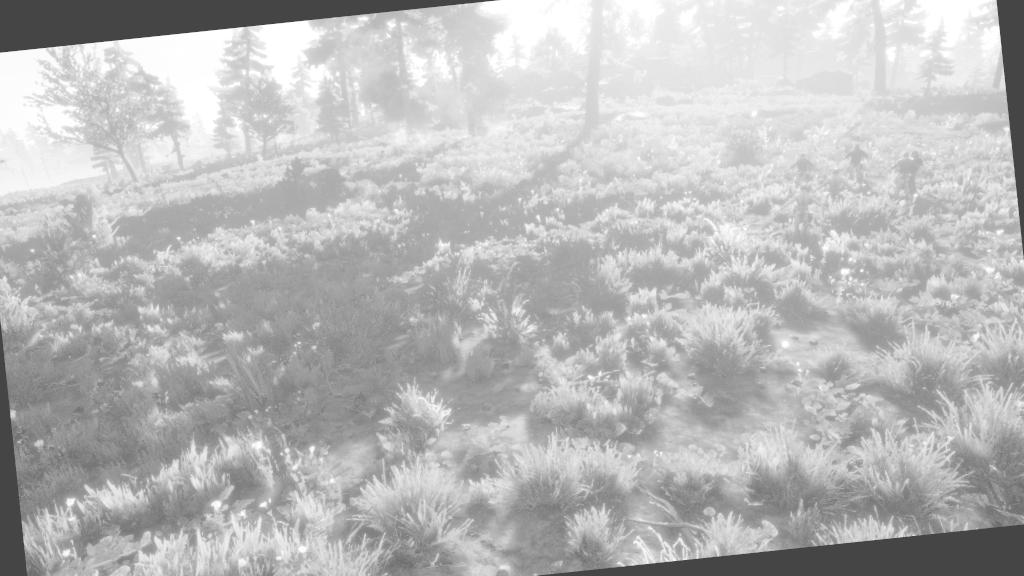Fire: (378, 116, 412, 151), (484, 102, 511, 138), (406, 121, 434, 149), (460, 126, 493, 146)
smoke: (348, 37, 435, 126), (444, 42, 514, 112)
